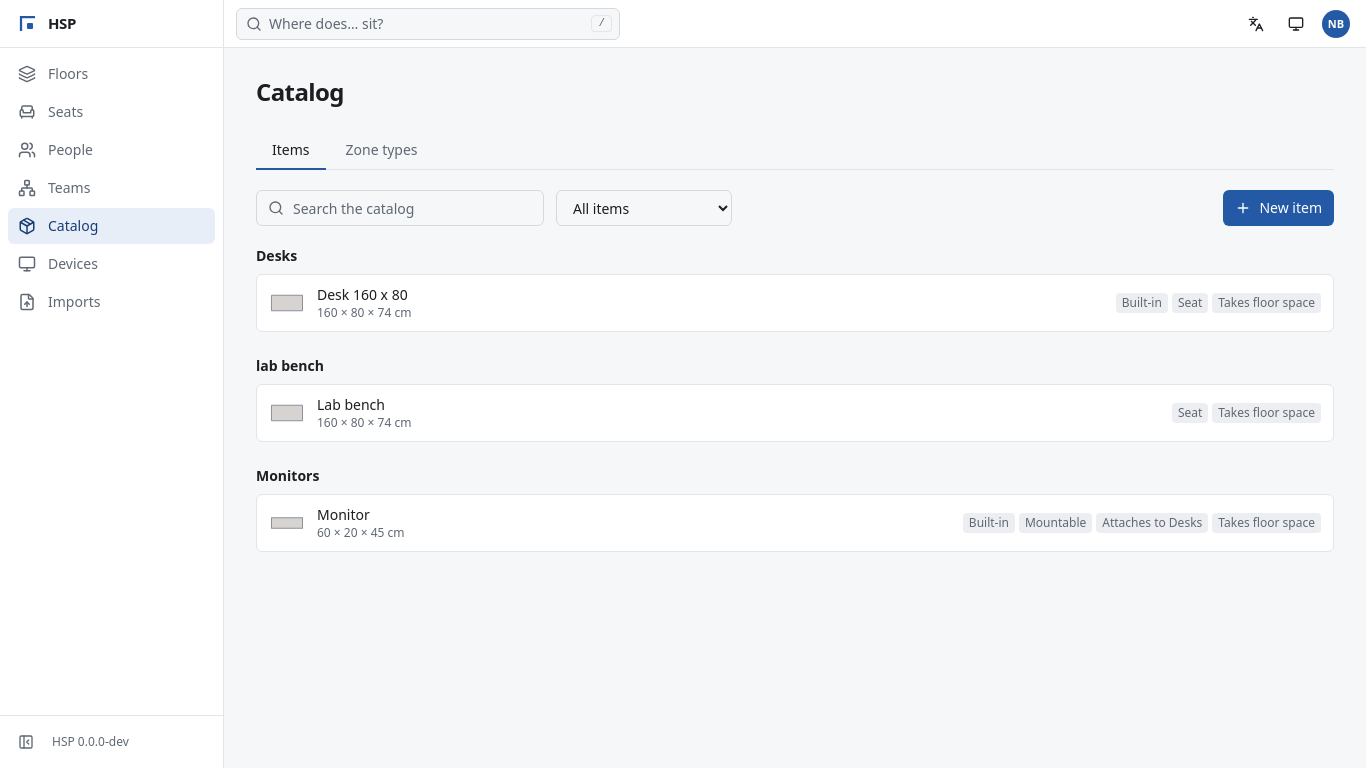
Test case: the catalog (docs/0095) › opens a built-in item read-only, and copies it into the organisation's own
What coordinates should you click on to do the following:
click the link "Desk 160 x 80"
I would click on:
 (362, 294)
Its box is top-left (317, 285), bottom-right (408, 304).
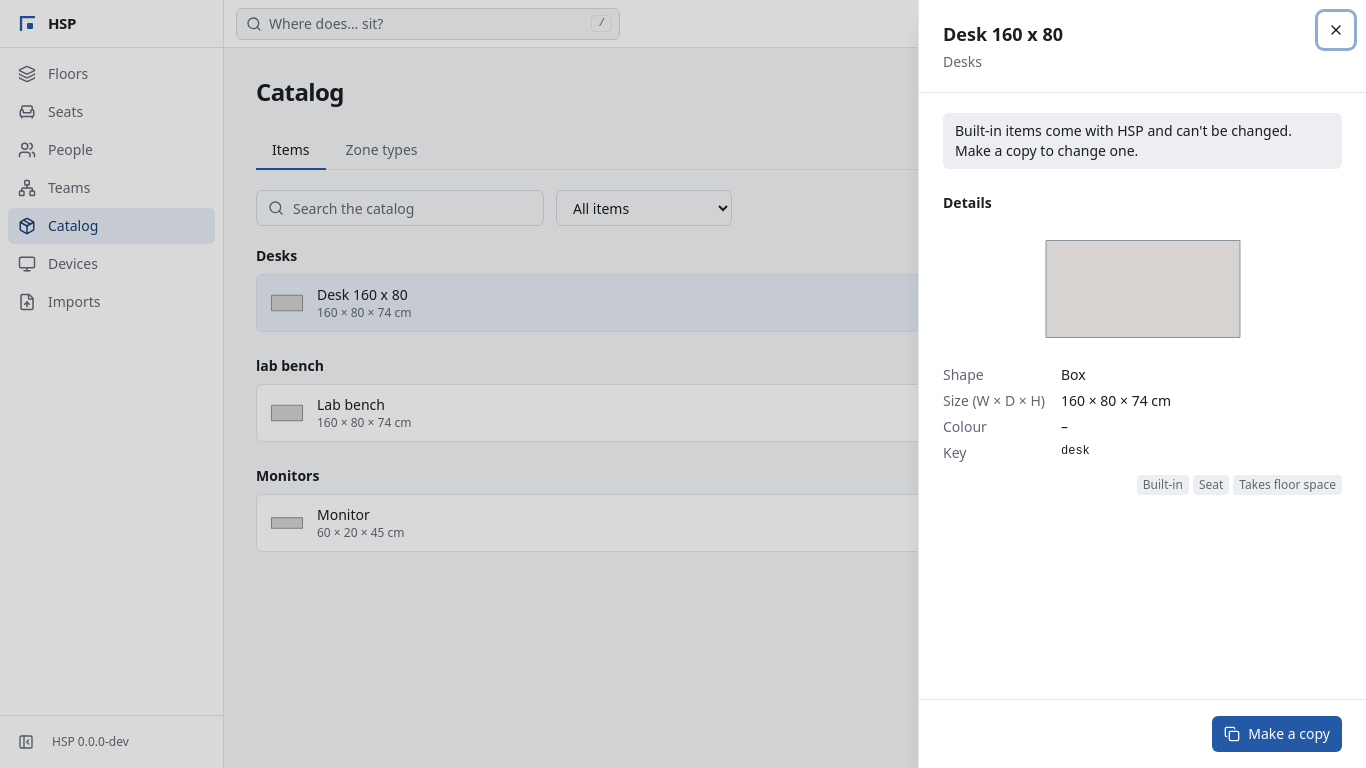
Expected: the dialog "Desk 160 x 80" shows "can't be changed", top-left (955, 121), bottom-right (1292, 160)
Expected: the picture named "Desk 160 x 80 seen from above" is shown, top-left (1014, 225), bottom-right (1270, 353)
What coordinates should you click on to do the following:
click the button "Make a copy"
I would click on:
 (1277, 734)
Its box is top-left (1212, 716), bottom-right (1342, 752).
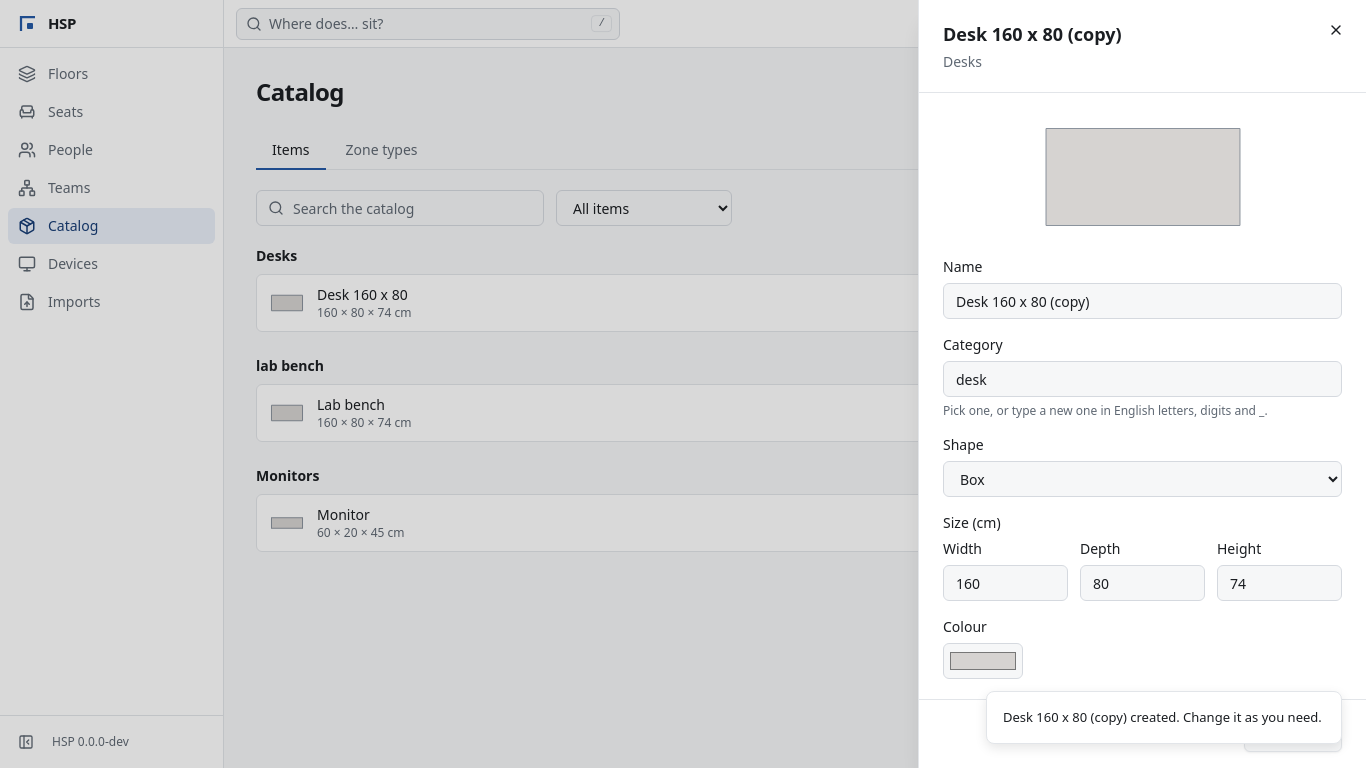
Expected: the heading "Desk 160 x 80 (copy)" is shown, top-left (943, 22), bottom-right (1122, 46)
Expected: the dialog "Desk 160 x 80 (copy)" is shown, top-left (918, 0), bottom-right (1365, 767)
